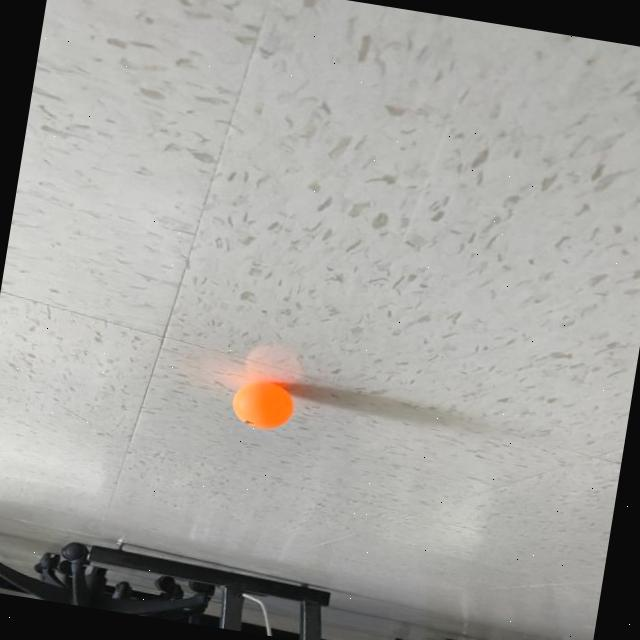ping-pong-ball: (227, 377, 300, 435)
